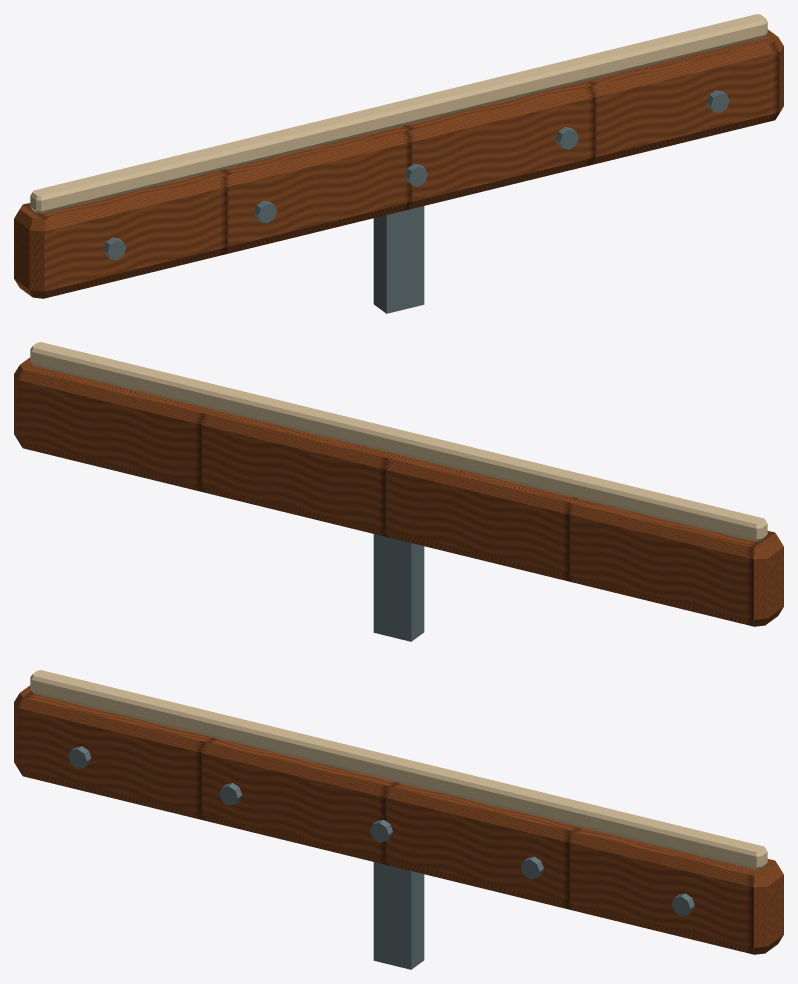
The model's file is ocean-raft-settlement-ocean-raft-settlement-deck-edge--5e987da4__28898.glb.
3 views of the same model, one above another, from view 1: azimuth 30°, elevation 25°; view 2: azimuth 150°, elevation 25°; view 3: azimuth 330°, elevation 25° (orthographic).
Parts seen in each view (by area): view 1: wood, rope, iron; view 2: wood, rope, iron; view 3: wood, rope, iron.
Boxes of the visible parts, x1,y1,x2,y2 form: wood: (14, 29, 783, 298); rope: (30, 14, 767, 213); iron: (103, 90, 729, 313); wood: (14, 357, 783, 626); rope: (30, 342, 767, 541); iron: (373, 534, 424, 641); wood: (14, 685, 783, 954); rope: (30, 670, 767, 869); iron: (68, 746, 694, 969).
Size of the model in its own units: 2 by 0.505 by 0.15.
Materials: 3 (1 with a texture image).
